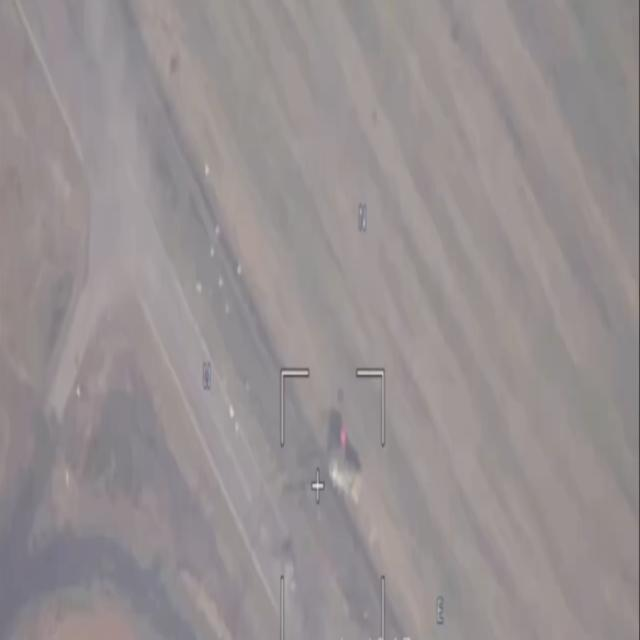vehicle: (328, 426, 362, 498)
